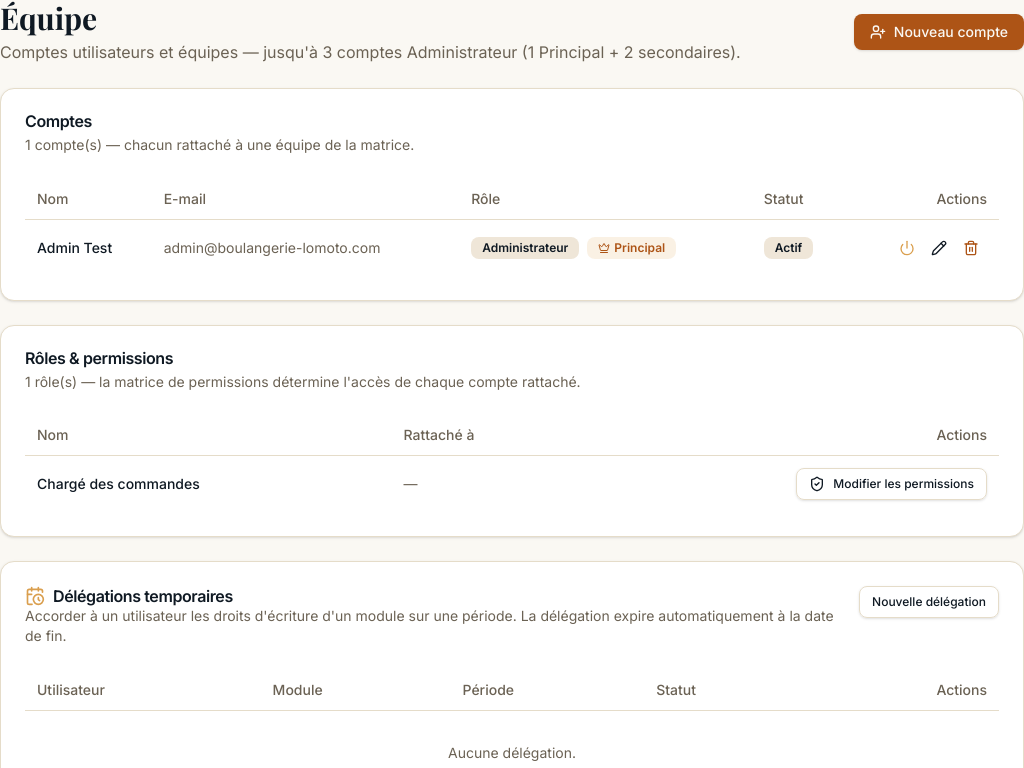
Test: EquipePage — éditeur de permissions d'un rôle (écart livre technique comblé) › exécution directe (Admin Principal) : ferme le dialogue et affiche une confirmation de succès
The width and height of the screenshot is (1024, 768).
Click the button "Modifier les permissions".
click(892, 484)  # box [796,468,987,500]
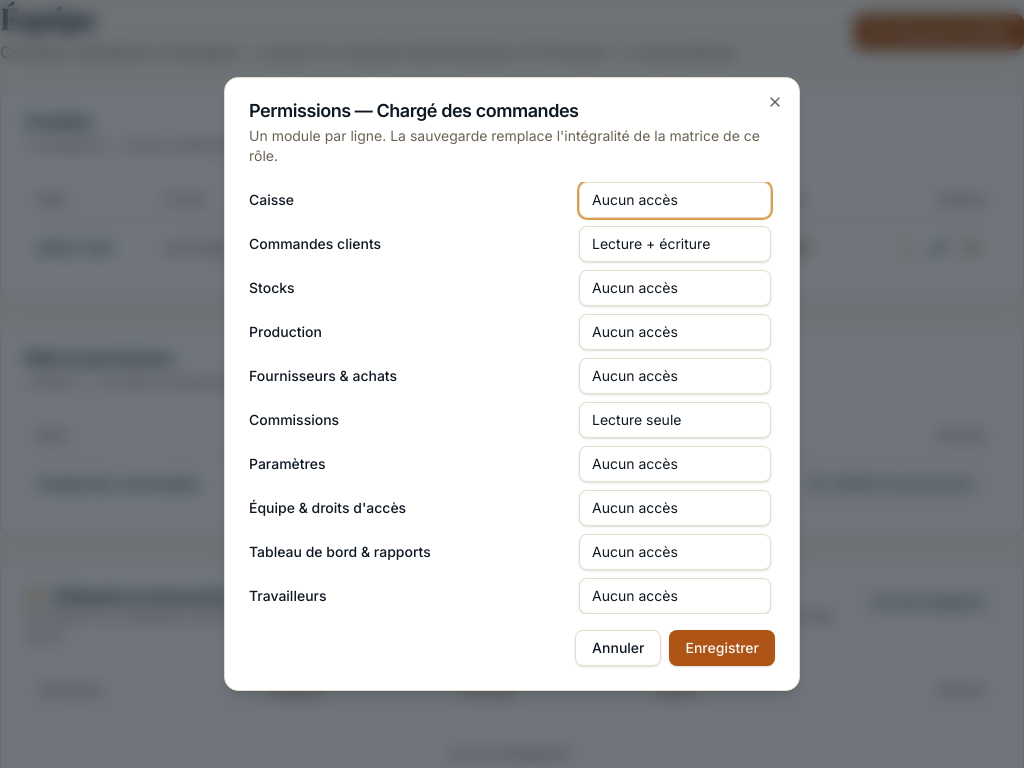
Expected: the heading "Permissions — Chargé des commandes" is shown, [249,100,579,121]
Click the button "Enregistrer".
click(722, 648)  # box [670,630,775,666]
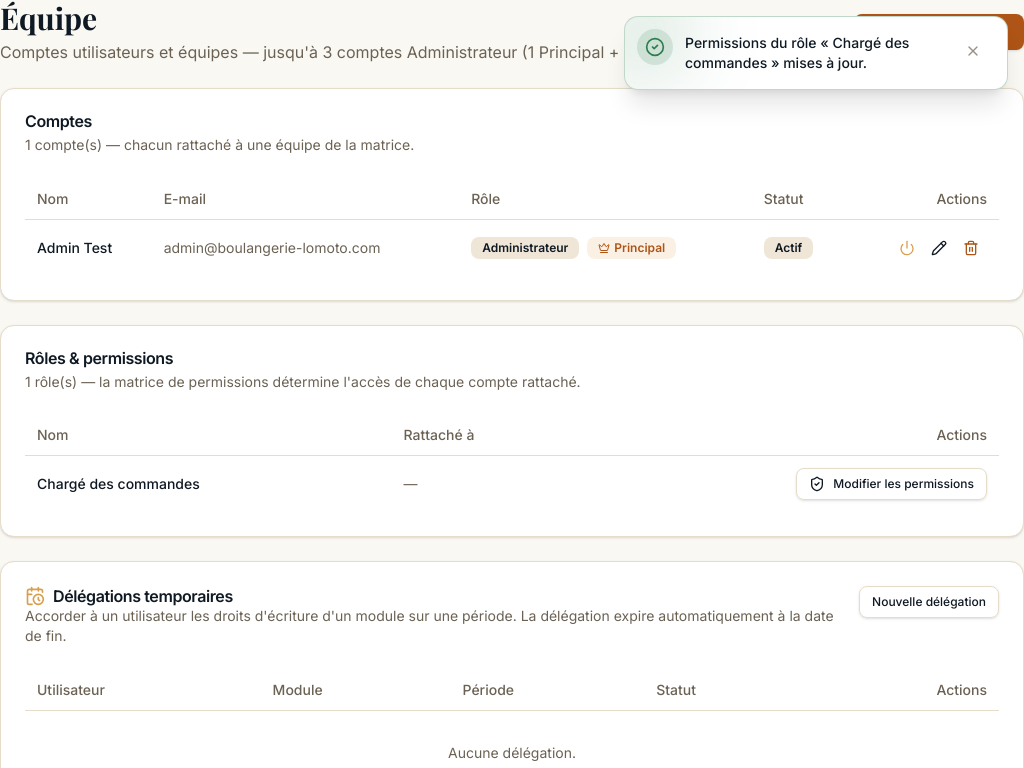
Expected: the text "Permissions du rôle « Chargé des commandes » mises à jour." is shown, [685,33,939,73]
Expected: the heading "Permissions — Chargé des commandes" is gone
